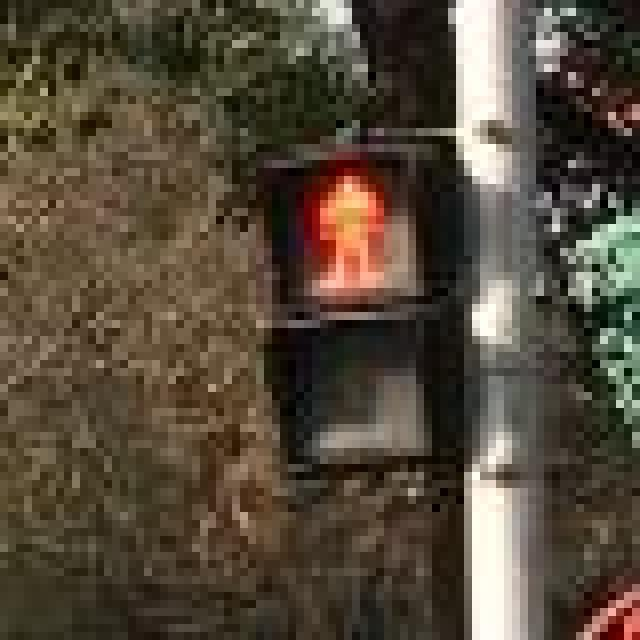redlight: (256, 136, 480, 472)
